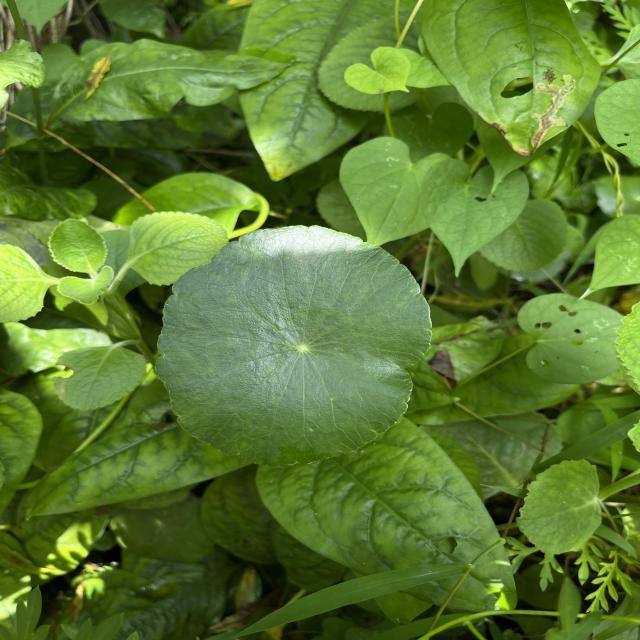Bacopa monnieri: (152, 222, 436, 470)
